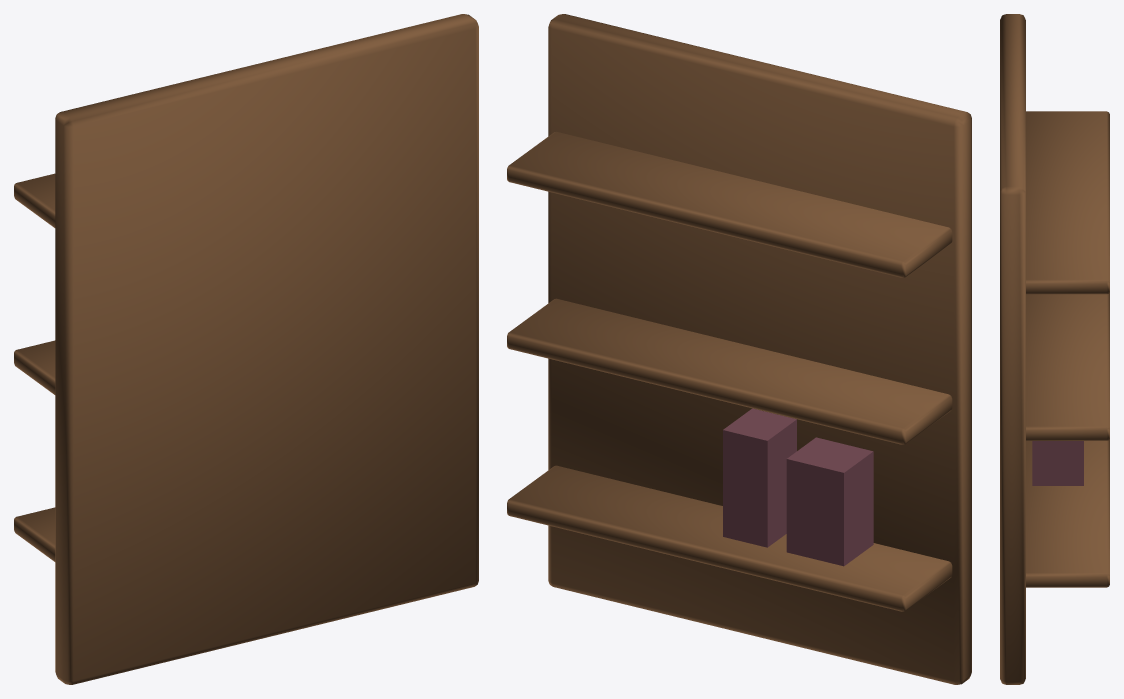
The model's file is v_furn_shelf.glb.
3 renders of one model, left to right at view 1: azimuth 30°, elevation 25°; view 2: azimuth 150°, elevation 25°; view 3: azimuth 270°, elevation 25°, orthographic. The views are drawn at different scales.
Visible parts, largest first — view 1: FurnShelf; view 2: FurnShelf; view 3: FurnShelf.
Part boxes in pixels (left/top/right/bottom): FurnShelf: left=14, top=14, right=478, bottom=684; FurnShelf: left=507, top=14, right=971, bottom=684; FurnShelf: left=1000, top=14, right=1109, bottom=684.
Bounding box in the file's own units: 1.3 × 1.7 × 0.34.
